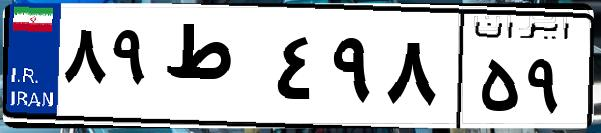4: (270, 28, 330, 110)
5: (475, 38, 525, 113)
8: (385, 28, 445, 110), (57, 26, 110, 100)
9: (330, 28, 385, 110), (525, 38, 570, 115), (110, 28, 158, 98)
ط: (158, 20, 270, 120)
